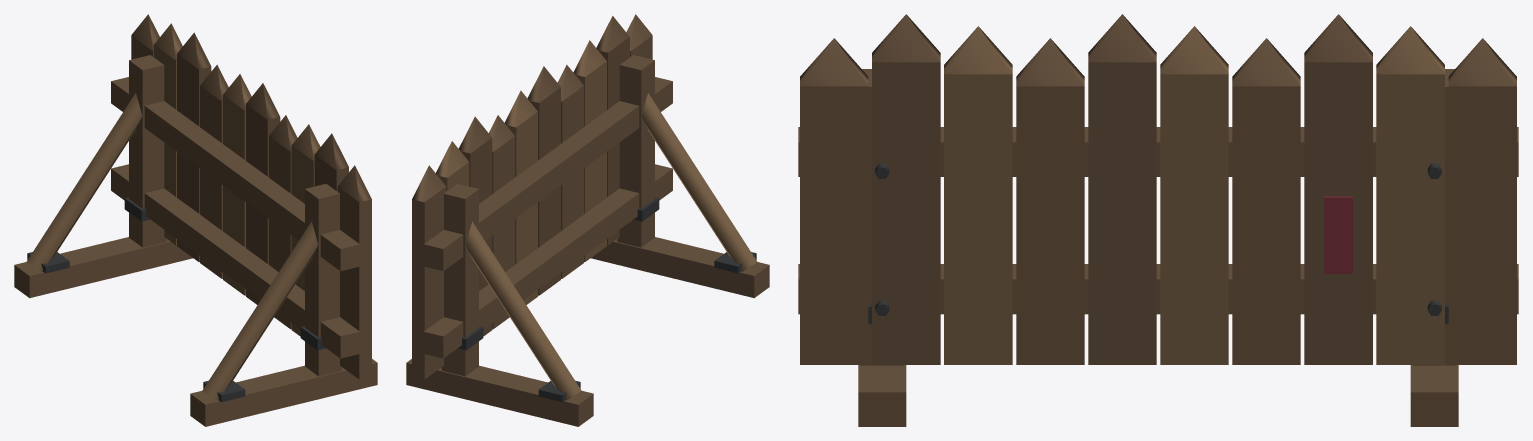
The model's file is siege-barricade.glb.
3 views of the same model, side by side, from view 1: azimuth 30°, elevation 25°; view 2: azimuth 150°, elevation 25°; view 3: azimuth 270°, elevation 25° (orthographic). The views are drawn at different scales.
Visible parts, largest first — view 1: Mesh_Crossrail1.1, Mesh_Crossrail0.47, Mesh_GroundShoe1.15, Mesh_GroundShoe-1.15, Mesh_Post-1.15, Mesh_Post1.15, Mesh_CoverBoard9, Mesh_Brace-1.15, Mesh_Brace1.15, Mesh_CoverBoard2, Mesh_CoverBoard5, Mesh_CoverBoard4 (+17 smaller); view 2: Mesh_Crossrail1.1, Mesh_Crossrail0.47, Mesh_GroundShoe-1.15, Mesh_GroundShoe1.15, Mesh_Post1.15, Mesh_Post-1.15, Mesh_CoverBoard0, Mesh_Brace-1.15, Mesh_Brace1.15, Mesh_CoverBoard5, Mesh_CoverBoard7, Mesh_CoverBoard4 (+17 smaller); view 3: Mesh_CoverBoard5, Mesh_CoverBoard8, Mesh_CoverBoard4, Mesh_CoverBoard7, Mesh_CoverBoard1, Mesh_CoverBoard0, Mesh_CoverBoard3, Mesh_CoverBoard6, Mesh_CoverBoard9, Mesh_CoverBoard2, Mesh_GroundShoe-1.15, Mesh_GroundShoe1.15 (+15 smaller).
Part boxes in pixels (x1,y1,x2,y2): Mesh_Crossrail1.1: [111, 77, 360, 271]; Mesh_Crossrail0.47: [111, 164, 360, 358]; Mesh_GroundShoe1.15: [190, 359, 377, 426]; Mesh_GroundShoe-1.15: [14, 237, 192, 298]; Mesh_Post-1.15: [129, 55, 166, 247]; Mesh_Post1.15: [305, 183, 342, 376]; Mesh_CoverBoard9: [337, 187, 371, 379]; Mesh_Brace-1.15: [26, 93, 142, 271]; Mesh_Brace1.15: [202, 221, 318, 400]; Mesh_CoverBoard2: [177, 54, 211, 261]; Mesh_CoverBoard5: [246, 104, 280, 304]; Mesh_CoverBoard4: [223, 95, 245, 295]; Mesh_Crossrail1.1: [423, 77, 672, 271]; Mesh_Crossrail0.47: [423, 164, 672, 358]; Mesh_GroundShoe-1.15: [406, 359, 593, 426]; Mesh_GroundShoe1.15: [591, 237, 769, 298]; Mesh_Post1.15: [617, 55, 654, 247]; Mesh_Post-1.15: [441, 183, 478, 376]; Mesh_CoverBoard0: [412, 187, 446, 379]; Mesh_Brace-1.15: [465, 221, 581, 400]; Mesh_Brace1.15: [641, 93, 757, 271]; Mesh_CoverBoard5: [530, 87, 560, 295]; Mesh_CoverBoard7: [575, 61, 606, 261]; Mesh_CoverBoard4: [507, 112, 537, 304]; Mesh_CoverBoard5: [1088, 62, 1156, 364]; Mesh_CoverBoard8: [872, 62, 940, 364]; Mesh_CoverBoard4: [1160, 74, 1228, 364]; Mesh_CoverBoard7: [944, 74, 1012, 364]; Mesh_CoverBoard1: [1376, 74, 1444, 364]; Mesh_CoverBoard0: [1448, 86, 1516, 364]; Mesh_CoverBoard3: [1232, 86, 1300, 364]; Mesh_CoverBoard6: [1016, 86, 1084, 364]; Mesh_CoverBoard9: [800, 86, 868, 364]; Mesh_CoverBoard2: [1304, 62, 1372, 364]; Mesh_GroundShoe-1.15: [1410, 365, 1458, 426]; Mesh_GroundShoe1.15: [858, 365, 906, 426].
Bounding box in the file's own units: 1.3 × 1.79 × 3.
